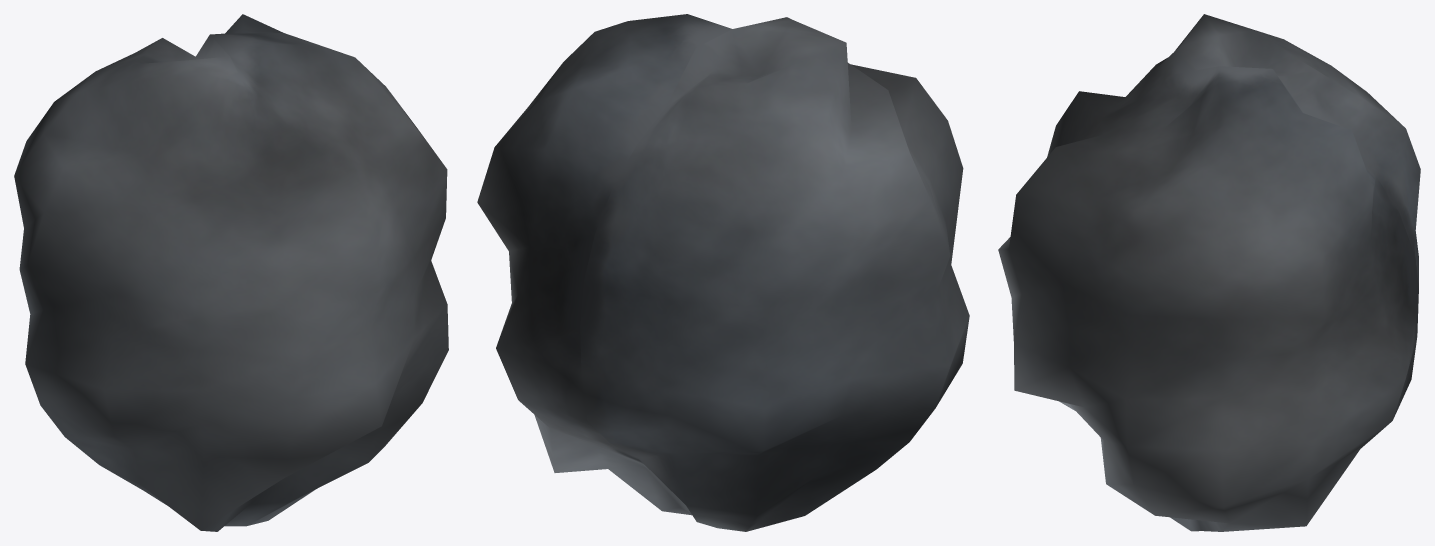
The model's file is iwa.fbx.
The picture shows the model from 3 angles, left to right: view 1: azimuth 30°, elevation 25°; view 2: azimuth 150°, elevation 25°; view 3: azimuth 270°, elevation 25°; orthographic projection. The views are drawn at different scales.
Visible parts, largest first — view 1: pSphere1; view 2: pSphere1; view 3: pSphere1.
Boxes of the visible parts, bbox=[...] form: pSphere1: bbox=[14, 14, 448, 531]; pSphere1: bbox=[477, 14, 969, 531]; pSphere1: bbox=[998, 14, 1420, 531].
Bounding box in the file's own units: 12.53 × 14.34 × 11.91.
Materials: 1 (1 with a texture image).
